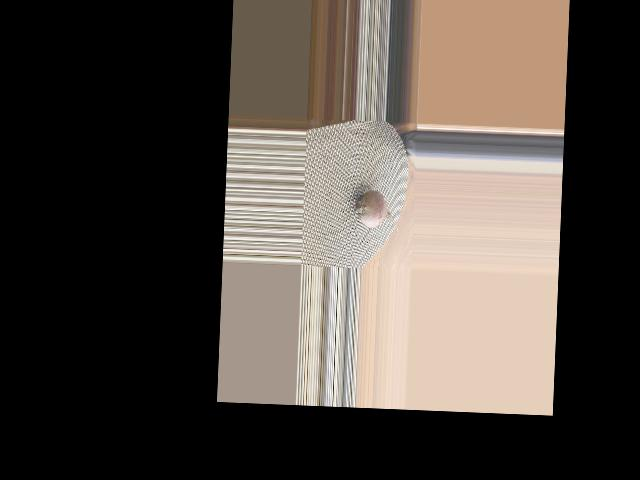beet: (351, 184, 399, 234)
